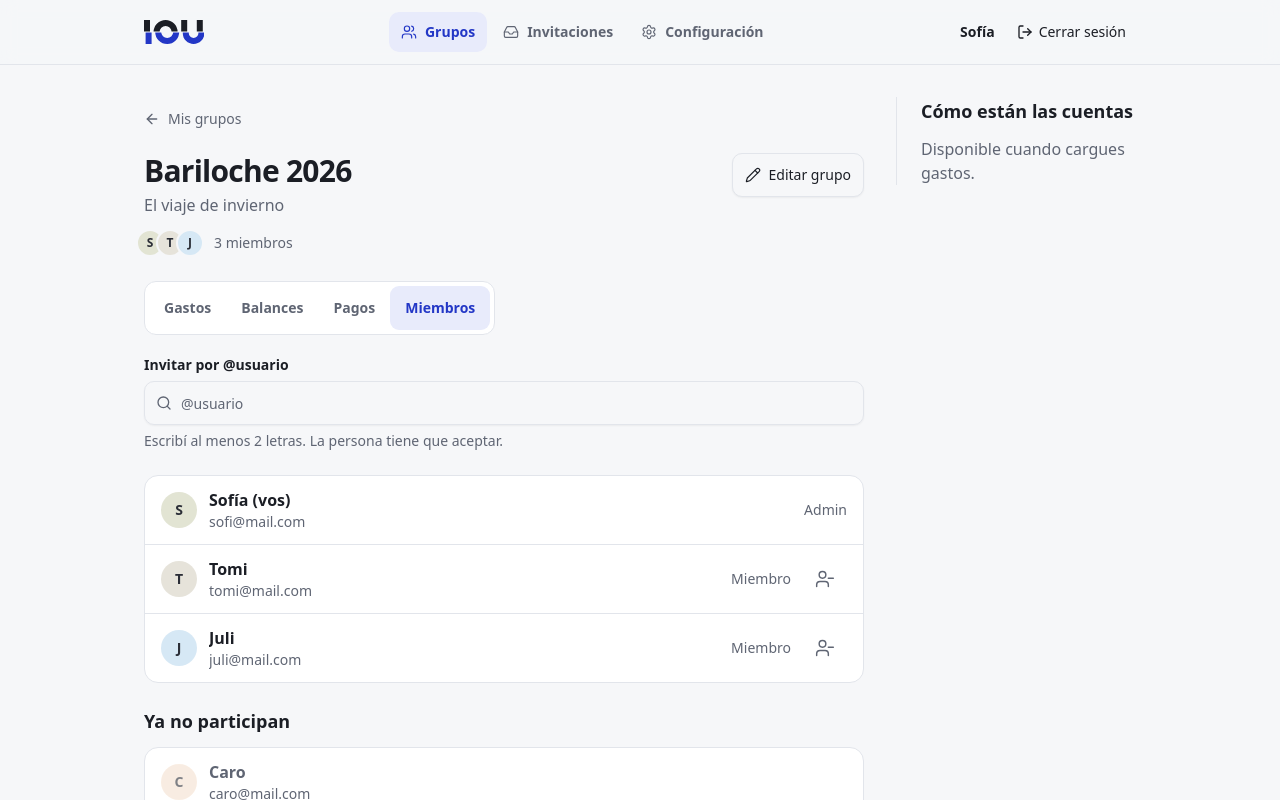
Test case: Invitar por @usuario (admin, HU-32) › busca mientras se escribe, sin mails, e invita al elegir
Type "l" into the dropdown labelled "Invitar por @usuario" at coordinates (504, 403), box [144,381,864,425]
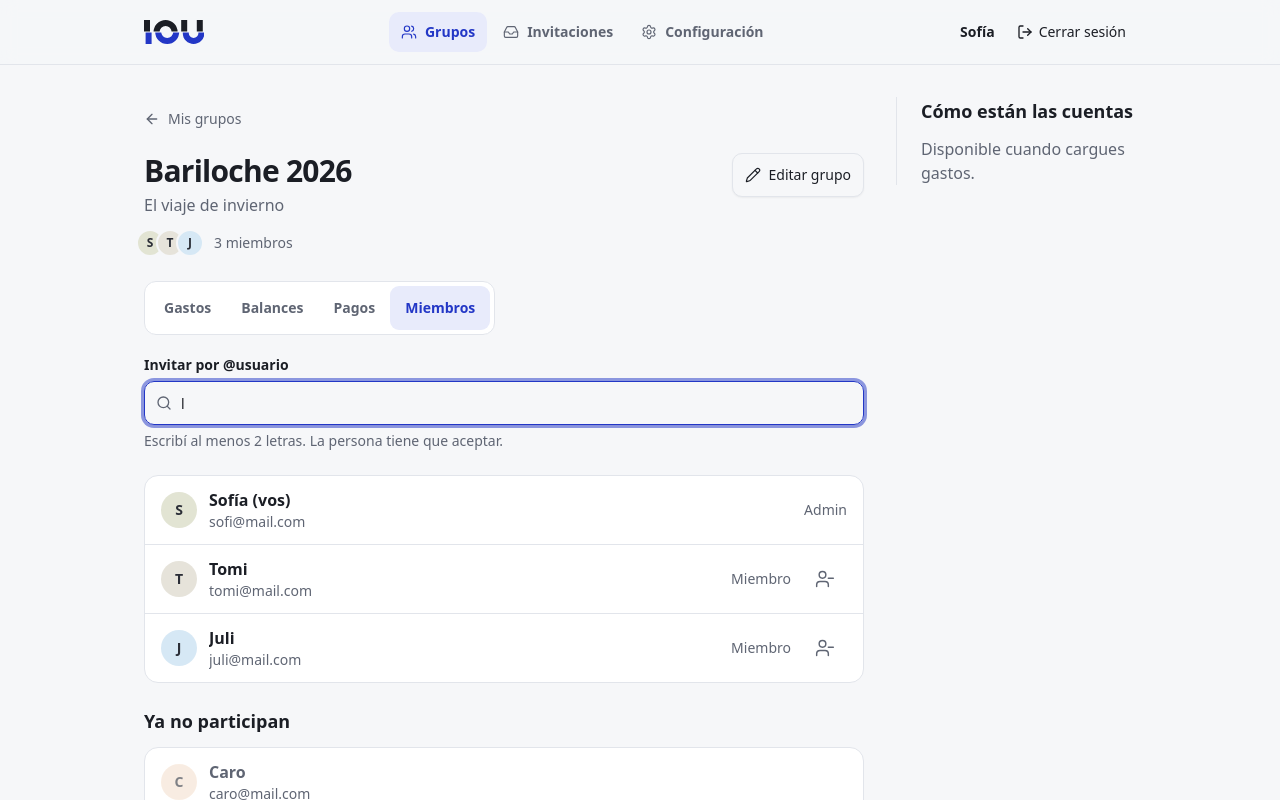
Type "u" into the dropdown at coordinates (504, 403), box [144,381,864,425]
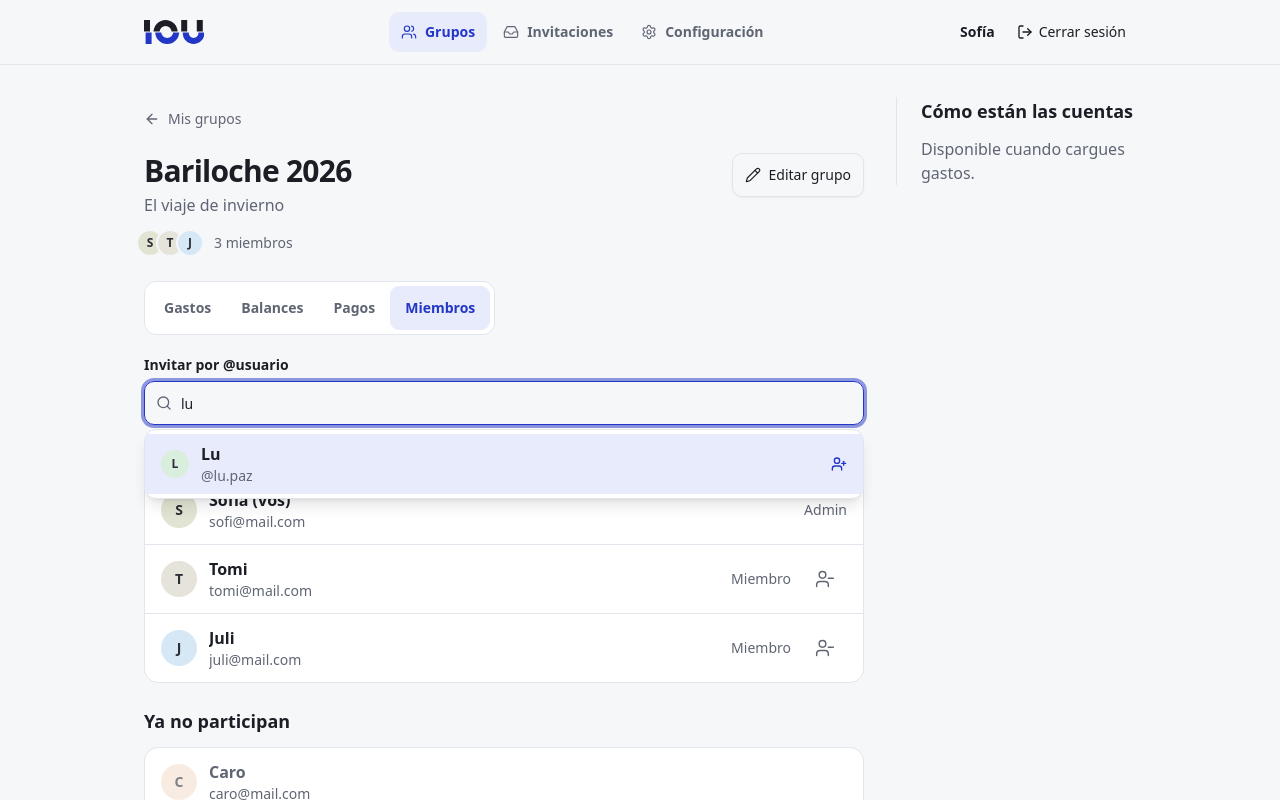
Click the option "L Lu @lu.paz" at coordinates (233, 476), box [145,434,863,494]
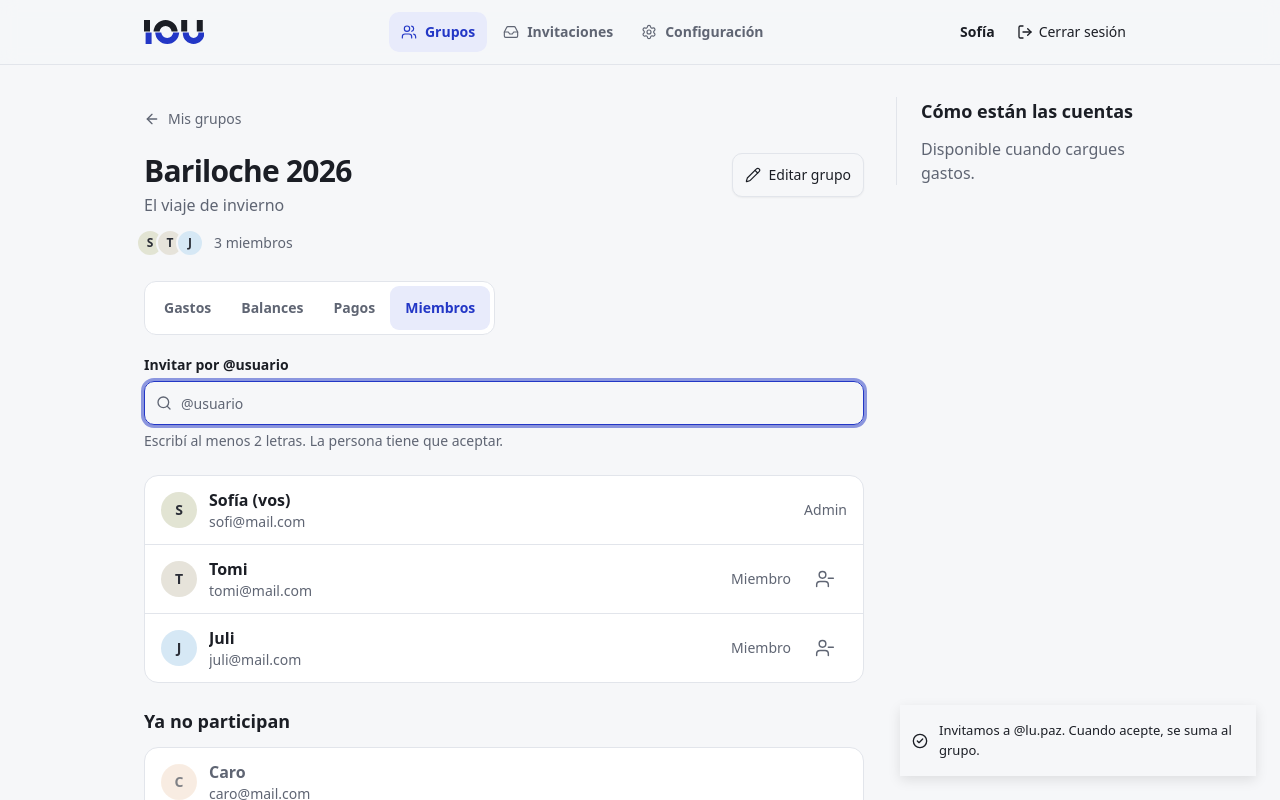
Now the text "Invitamos a @lu.paz. Cuando acepte, se suma al grupo." is shown, box [939,721,1240,760]
